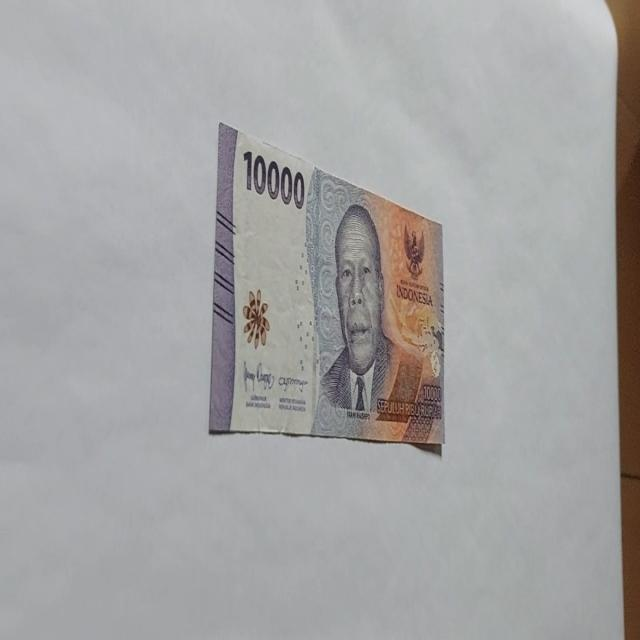sepuluh ribu rupiah: (208, 120, 446, 448), (310, 200, 424, 441), (242, 148, 306, 210)
